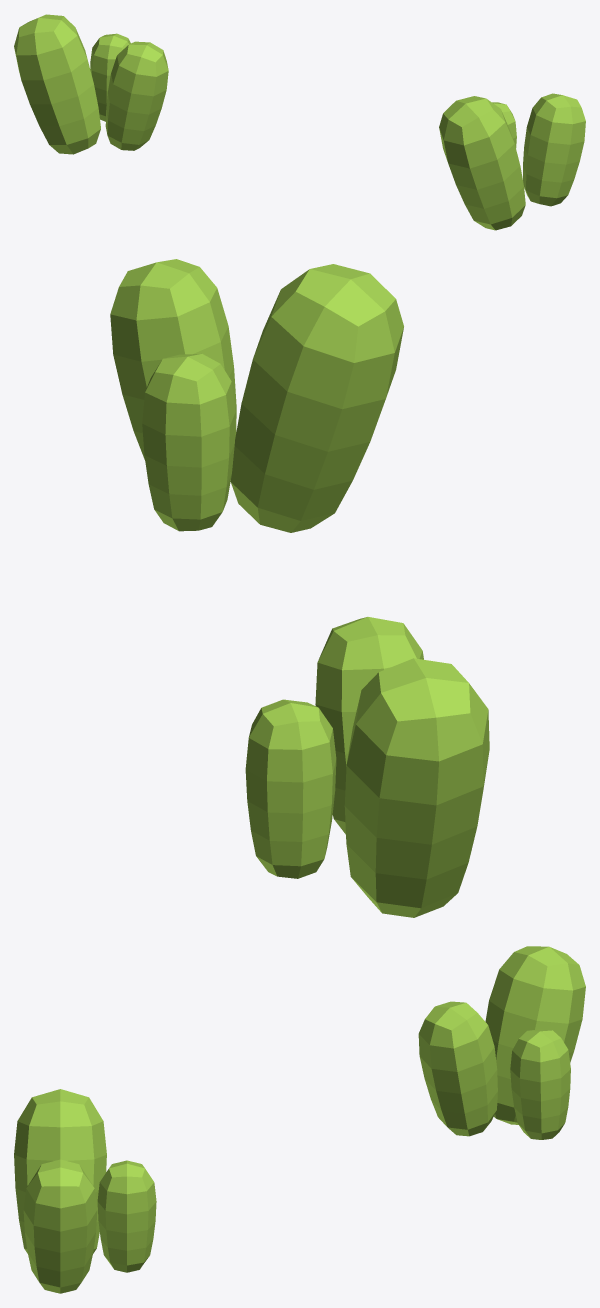
The model's file is Grass3.fbx.
3 renders of one model, top to bottom at view 1: azimuth 30°, elevation 25°; view 2: azimuth 150°, elevation 25°; view 3: azimuth 270°, elevation 25°, orthographic. The views are drawn at different scales.
Visible parts, largest first — view 1: Cube.119, Cube.116, Cube.117, Cube.120, Cube.121, Cube.118; view 2: Cube.116, Cube.119, Cube.118, Cube.121, Cube.117, Cube.120; view 3: Cube.119, Cube.120, Cube.117, Cube.116, Cube.121, Cube.118.
Boxes of the visible parts, x1,y1,x2,y2 form: Cube.119: (14,14,100,154); Cube.116: (439,96,525,230); Cube.117: (523,93,585,206); Cube.120: (105,41,168,150); Cube.121: (90,33,130,121); Cube.118: (492,102,516,147); Cube.116: (230,264,403,532); Cube.119: (344,658,489,917); Cube.118: (142,353,235,531); Cube.121: (245,699,336,878); Cube.117: (110,259,236,460); Cube.120: (315,617,423,834); Cube.119: (485,946,585,1124); Cube.120: (418,1001,497,1136); Cube.117: (23,1159,97,1293); Cube.116: (14,1089,106,1253); Cube.121: (510,1029,570,1139); Cube.118: (97,1160,156,1272).
Bounding box in the file's own units: 0.7336 × 0.7735 × 0.2426.
